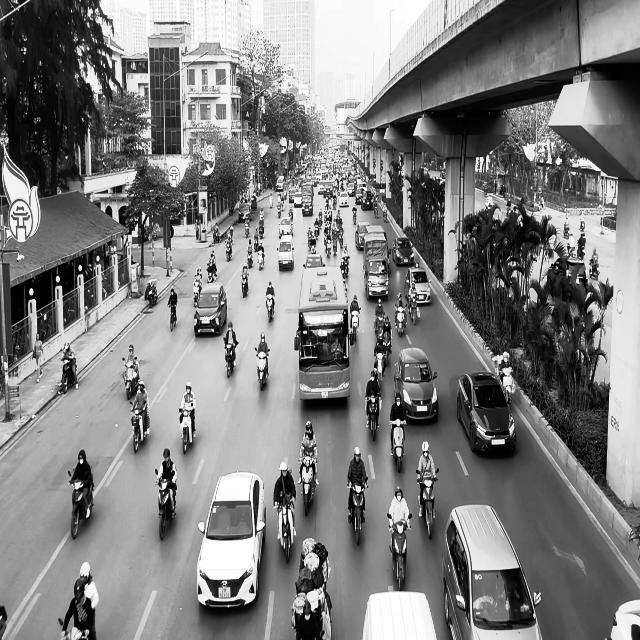bus: (442, 503, 542, 640), (294, 265, 350, 400)
car: (196, 471, 266, 609), (456, 370, 516, 454), (393, 347, 439, 422), (193, 282, 227, 336), (605, 598, 640, 640), (404, 267, 431, 304), (276, 234, 294, 270), (392, 237, 414, 266), (303, 253, 325, 268)
motorbike: (386, 512, 412, 590), (68, 469, 94, 539), (154, 468, 177, 540), (416, 468, 439, 538), (274, 494, 296, 563), (347, 481, 368, 545), (298, 456, 317, 516), (130, 401, 150, 453), (389, 419, 406, 472), (365, 393, 381, 441), (179, 406, 195, 453), (58, 357, 78, 394), (254, 347, 270, 391), (122, 358, 138, 400), (223, 338, 238, 378), (348, 308, 361, 346), (146, 279, 158, 306), (265, 293, 275, 322), (168, 302, 177, 331), (193, 280, 201, 308), (589, 257, 599, 279), (241, 272, 249, 298)
